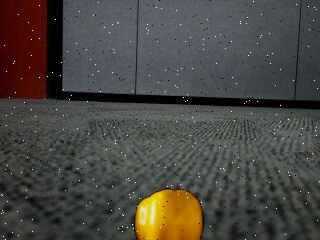Capsicum: (133, 183, 207, 240)
